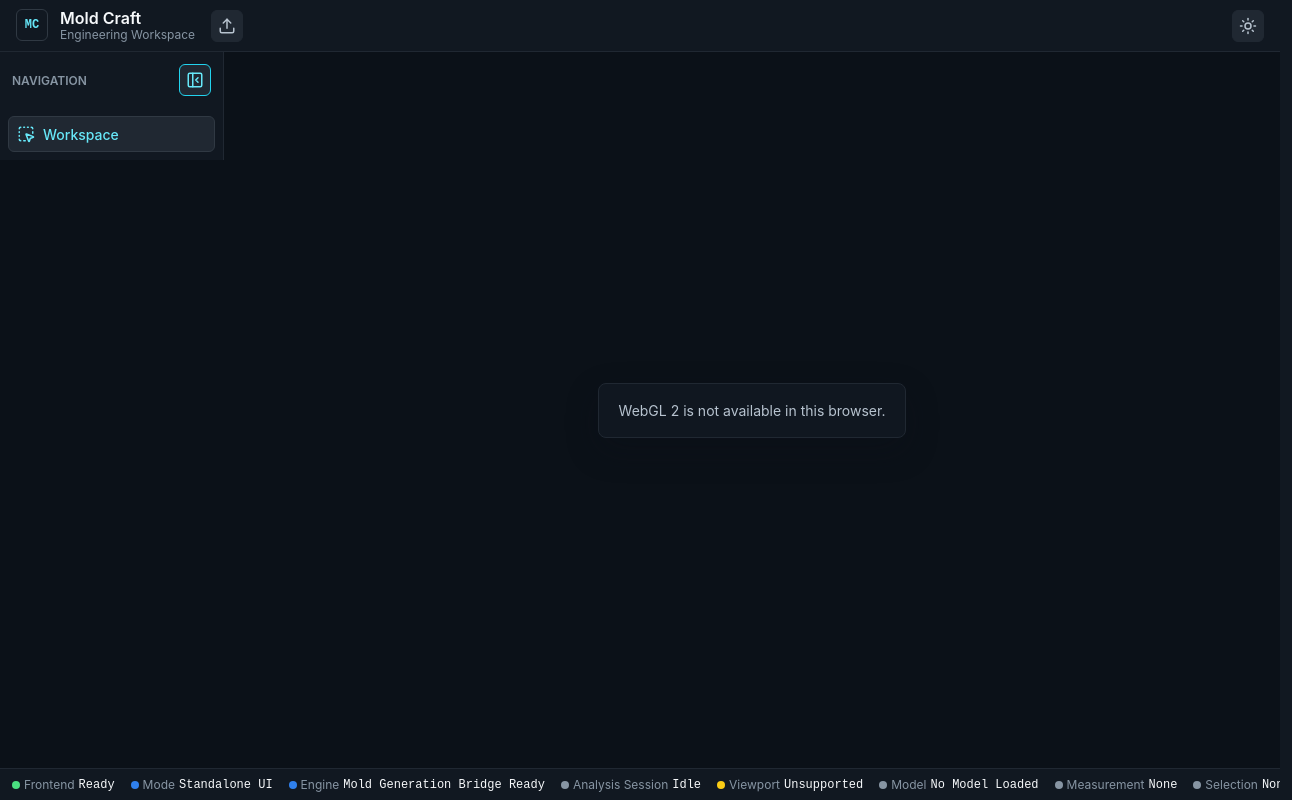
Test case: App shell › keeps the navigation usable when collapsed
Click the button named "Collapse navigation": {"x": 195, "y": 80} [179,64,211,96]
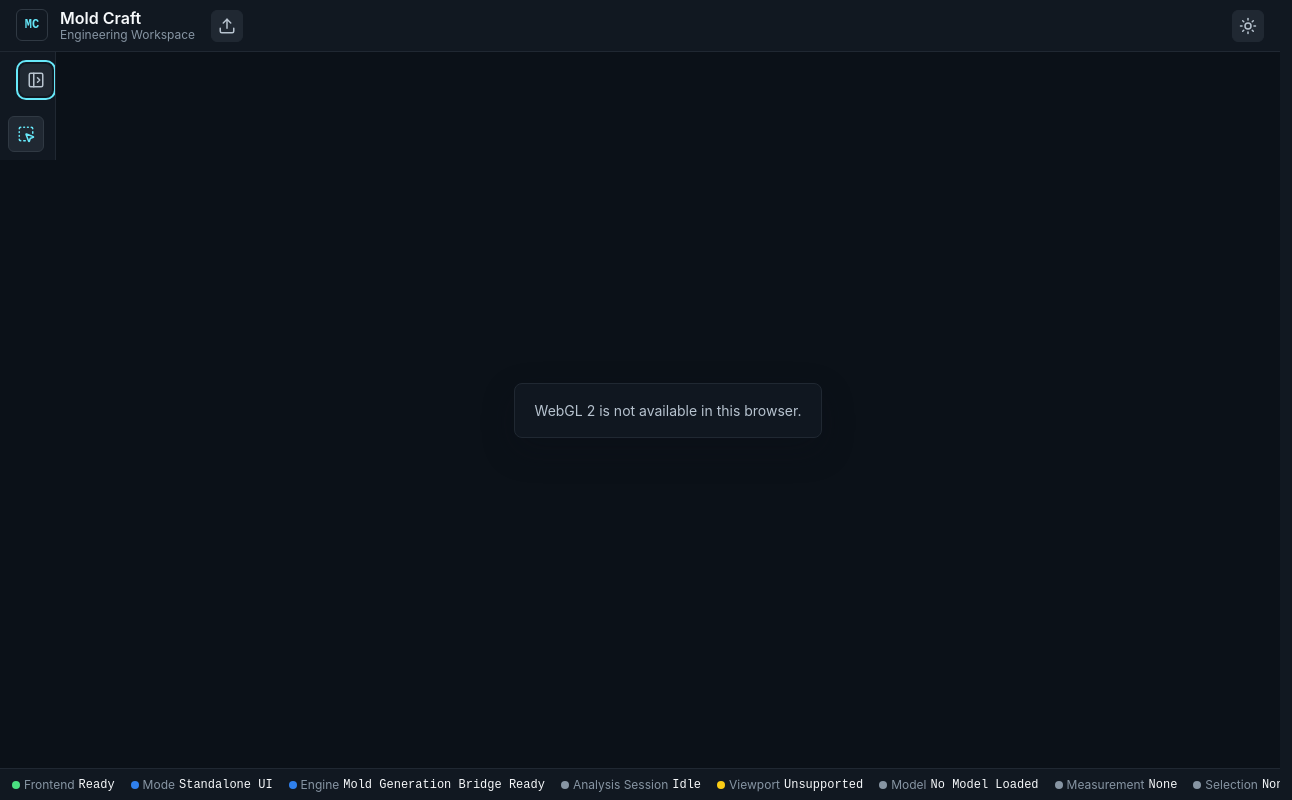
Expected: the link named "Open engineering workspace" is shown, [8,116,44,152]
Expected: the button named "Expand navigation" is collapsed, [20,64,52,96]
